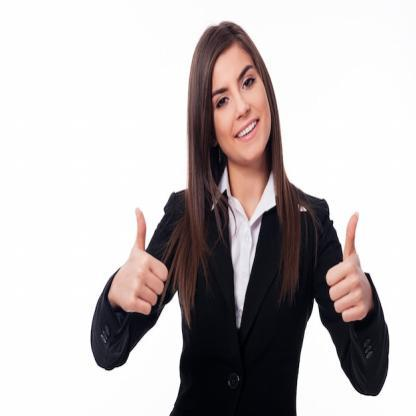thumb_up: (108, 207, 170, 316), (326, 208, 372, 327)
